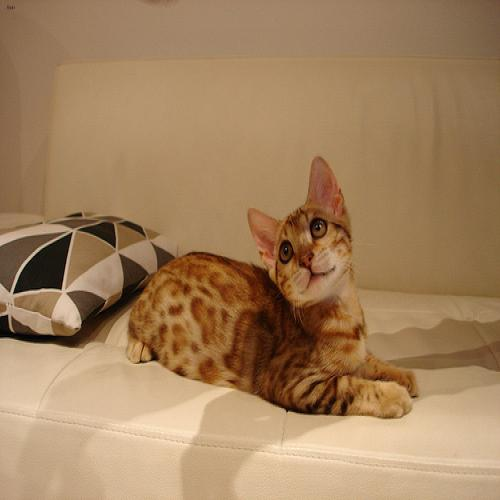bengal: (241, 152, 371, 314)
